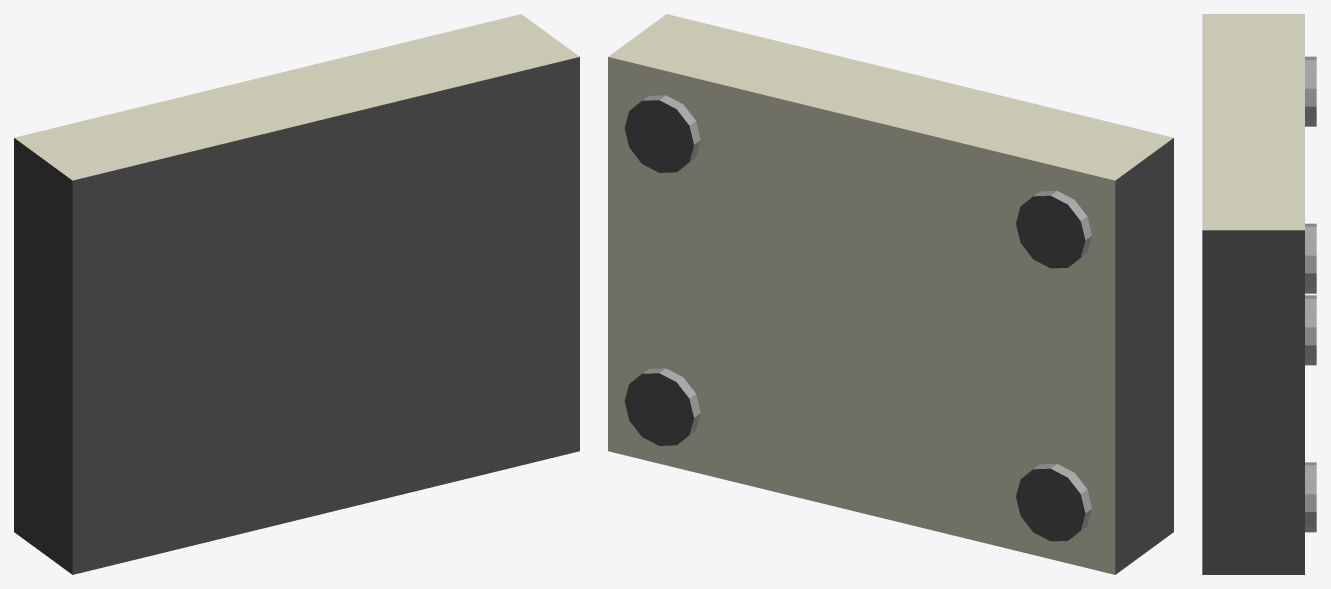
The picture shows the model from 3 angles, left to right: view 1: azimuth 30°, elevation 25°; view 2: azimuth 150°, elevation 25°; view 3: azimuth 270°, elevation 25°; orthographic projection. The views are drawn at different scales.
Visible parts, largest first — view 1: vcr player; view 2: vcr player; view 3: vcr player.
Part boxes in pixels (<box>): vcr player: <box>14,14,579,574</box>; vcr player: <box>608,14,1173,574</box>; vcr player: <box>1202,14,1316,574</box>.
Bounding box in the file's own units: 17.5 × 13 × 3.9.
